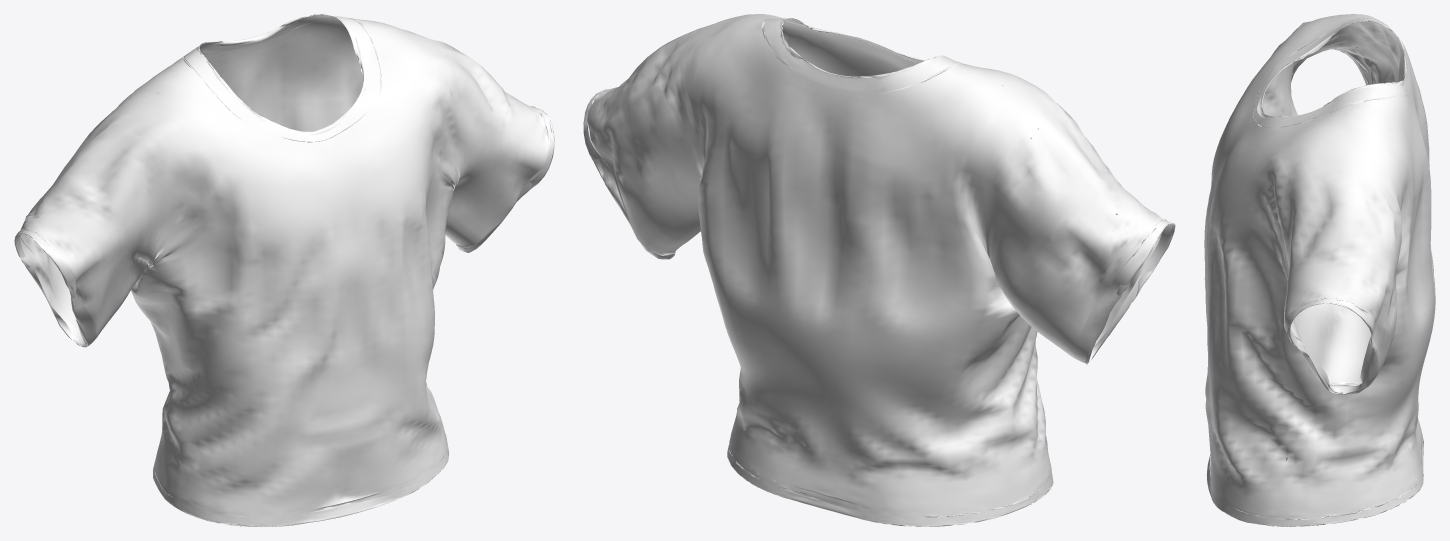
Rendered from Tshirt_L.glb.
3 renders of one model, left to right at view 1: azimuth 30°, elevation 25°; view 2: azimuth 150°, elevation 25°; view 3: azimuth 270°, elevation 25°, orthographic. The views are drawn at different scales.
Parts seen in each view (by area): view 1: TShirt_for_Genesis.002; view 2: TShirt_for_Genesis.002; view 3: TShirt_for_Genesis.002.
Part boxes in pixels (left/top/right/bottom): TShirt_for_Genesis.002: left=14, top=14, right=554, bottom=526; TShirt_for_Genesis.002: left=583, top=14, right=1175, bottom=526; TShirt_for_Genesis.002: left=1204, top=14, right=1435, bottom=526.
Size of the model in its own units: 15.72 by 12.25 by 6.07.
1 material, 1 textured.
